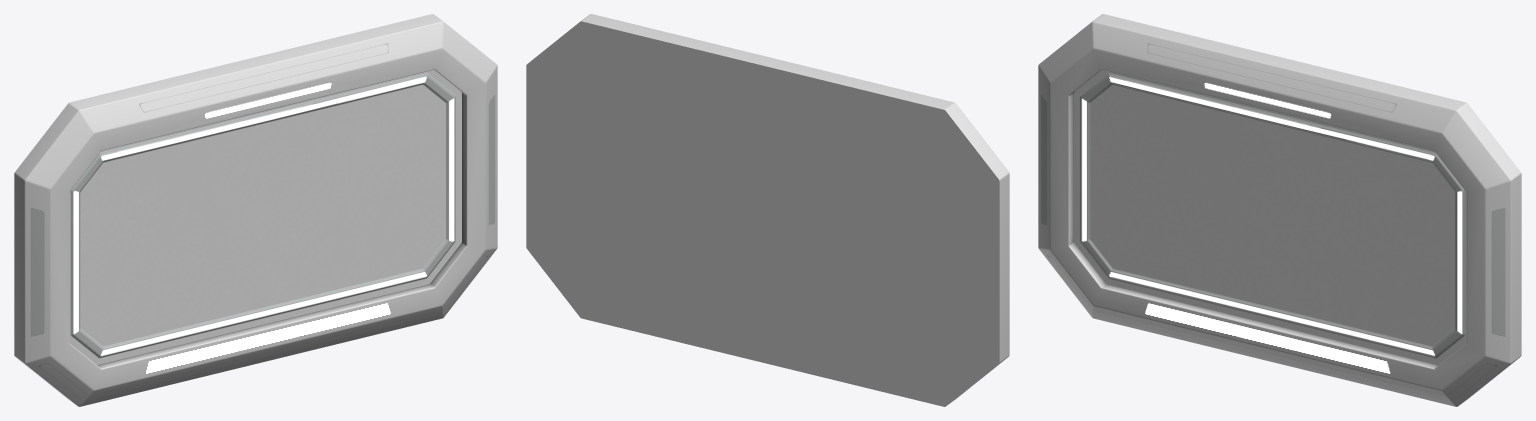
File: Mirror02.FBX
3 views of the same model, side by side, from view 1: azimuth 30°, elevation 25°; view 2: azimuth 150°, elevation 25°; view 3: azimuth 330°, elevation 25° (orthographic).
Parts seen in each view (by area): view 1: Mirror02; view 2: Mirror02; view 3: Mirror02.
Boxes of the visible parts, x1,y1,x2,y2 form: Mirror02: (14, 14, 497, 406); Mirror02: (526, 14, 1009, 406); Mirror02: (1038, 14, 1521, 406).
Size of what is drawn, in the model's own units: 1.5 by 0.9 by 0.0952.
